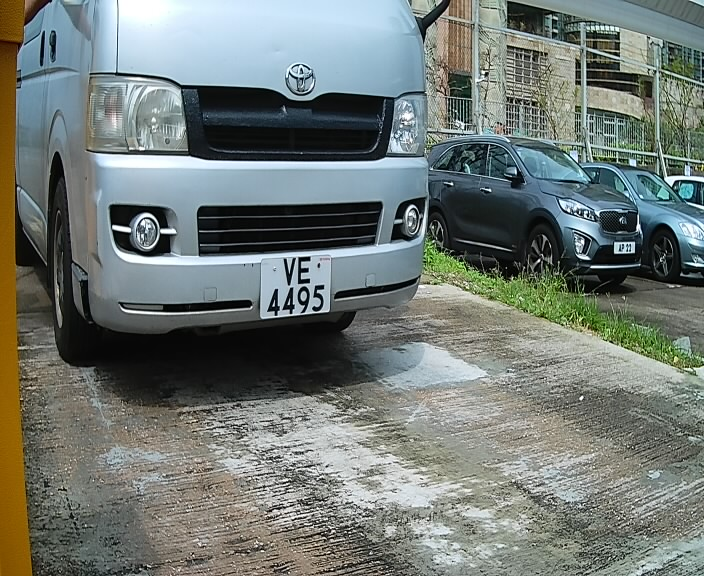Car: (24, 2, 457, 384)
License Plate: (257, 251, 342, 325)
